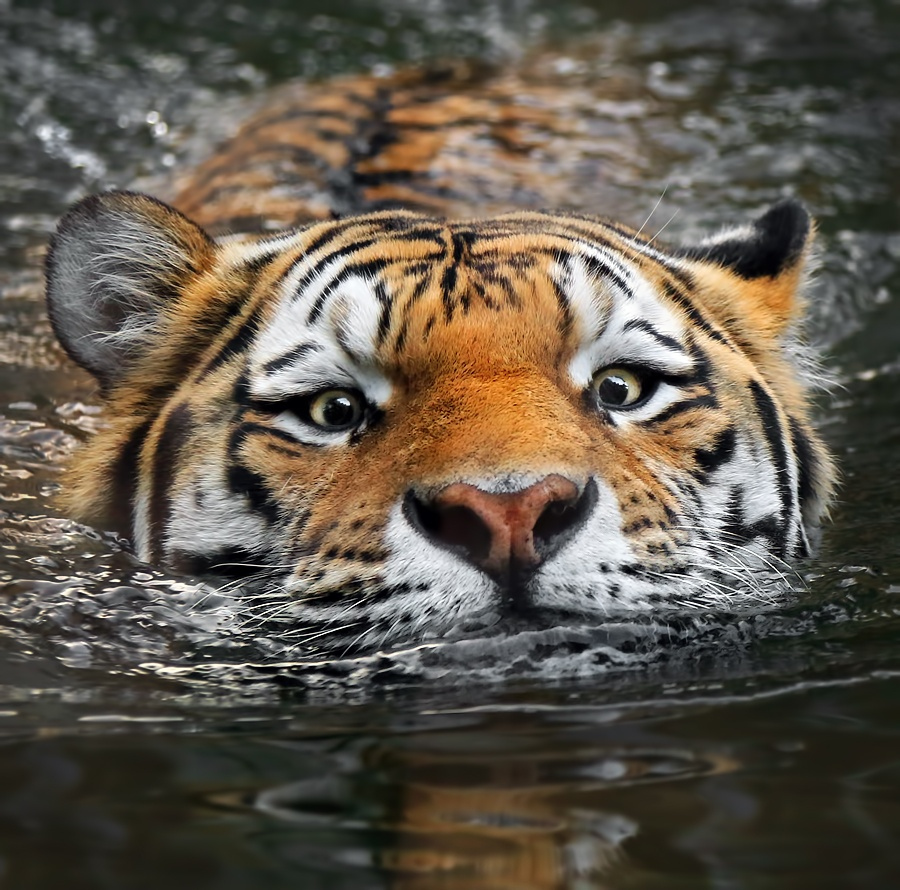tiger: (49, 176, 846, 647)
